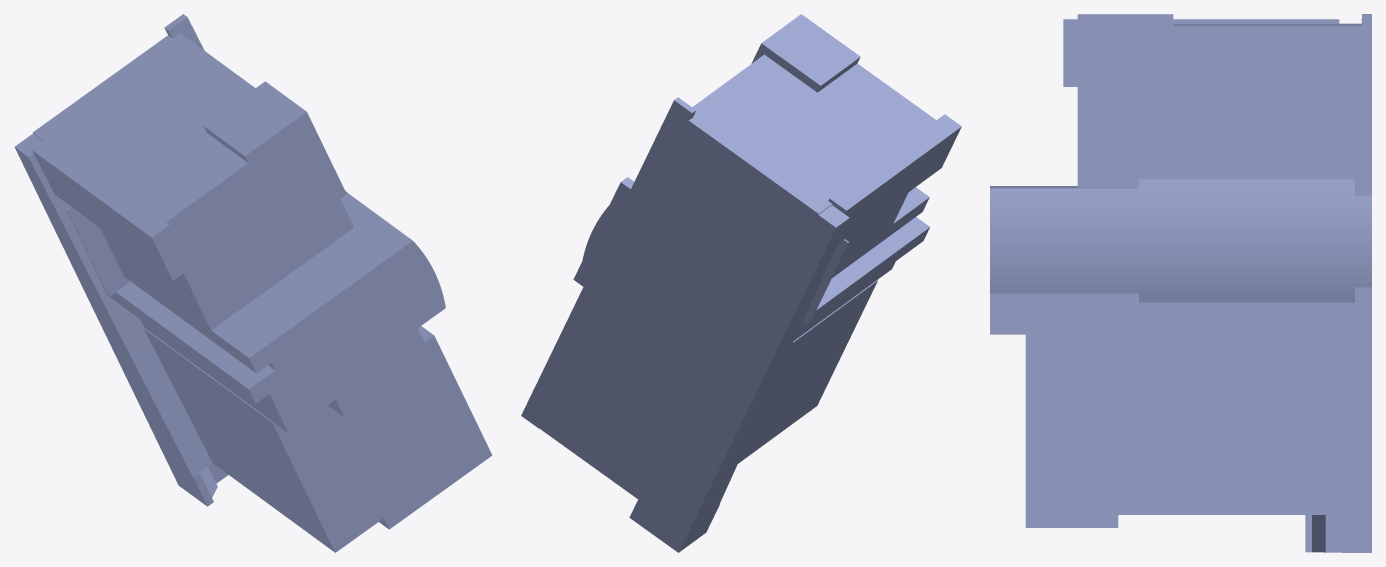
Rendered from t-lab.glb.
3 views of the same model, side by side, from view 1: azimuth 30°, elevation 25°; view 2: azimuth 150°, elevation 25°; view 3: azimuth 270°, elevation 25° (orthographic). The views are drawn at different scales.
Parts seen in each view (by area): view 1: T-Lab; view 2: T-Lab; view 3: T-Lab.
Boxes of the visible parts, x1,y1,x2,y2 form: T-Lab: (14, 14, 492, 552); T-Lab: (521, 14, 961, 552); T-Lab: (990, 14, 1371, 552).
Bounding box in the file's own units: 66.59 × 91.22 × 58.41.
